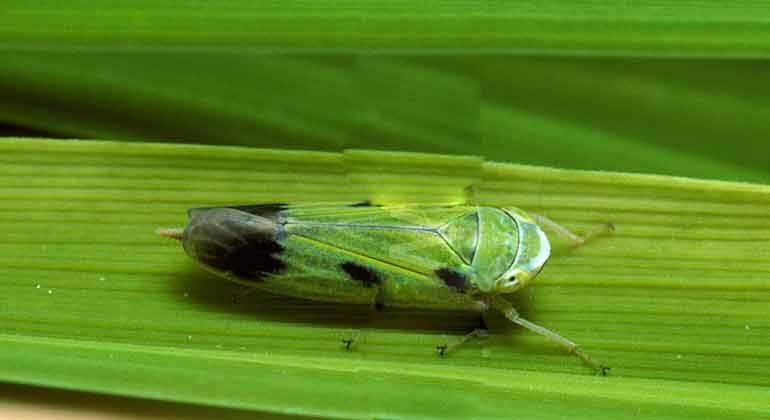Brown_plant_leafhopper: (181, 198, 556, 328)
